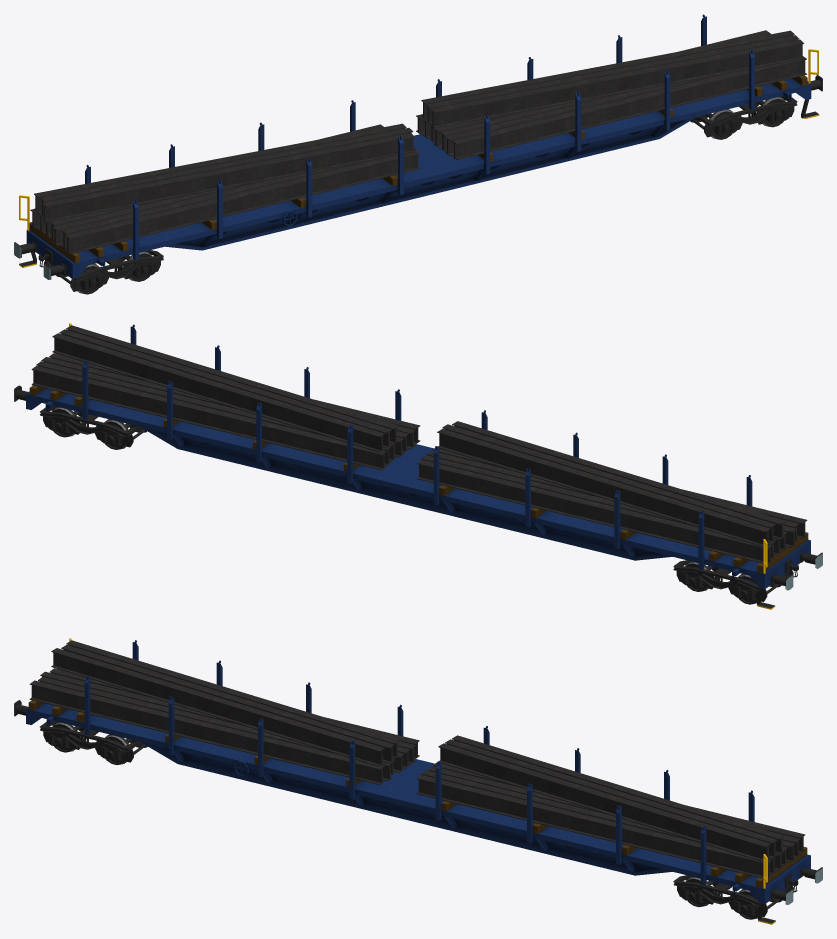
File: rbnpss.obj
The picture shows the model from 3 angles, top to bottom: view 1: azimuth 30°, elevation 25°; view 2: azimuth 150°, elevation 25°; view 3: azimuth 330°, elevation 25°; orthographic projection.
Visible parts, largest first — view 1: FRAME.001_Cube.001, CARGO_FILL_90_Cube.016, CARGO_FILL_40_Cube.026, CARGO_FILL_5_Cube.028, CARGO_FILL_55_Cube.014, CARGO_FILL_100_Cube.021, CARGO_FILL_45_Cube.025, CARGO_FILL_50_Cube.022, CARGO_FILL_95_Cube.017, BOGEY_FRONT_Cube.004, BOGEY_REAR_Cube.005, CARGO_FILL_10_Cube.029 (+5 smaller); view 2: FRAME.001_Cube.001, CARGO_FILL_60_Cube.013, CARGO_FILL_50_Cube.022, CARGO_FILL_100_Cube.021, CARGO_FILL_25_Cube.031, CARGO_FILL_40_Cube.026, CARGO_FILL_95_Cube.017, CARGO_FILL_90_Cube.016, CARGO_FILL_45_Cube.025, BOGEY_REAR_Cube.005, BOGEY_FRONT_Cube.004, CARGO_FILL_80_Cube.010 (+6 smaller); view 3: FRAME.001_Cube.001, CARGO_FILL_5_Cube.028, CARGO_FILL_40_Cube.026, CARGO_FILL_90_Cube.016, CARGO_FILL_55_Cube.014, CARGO_FILL_45_Cube.025, CARGO_FILL_100_Cube.021, CARGO_FILL_95_Cube.017, CARGO_FILL_50_Cube.022, BOGEY_FRONT_Cube.004, BOGEY_REAR_Cube.005, CARGO_FILL_10_Cube.029 (+7 smaller).
Boxes of the visible parts, bbox=[...] form: FRAME.001_Cube.001: bbox=[26, 14, 811, 278]; CARGO_FILL_90_Cube.016: bbox=[431, 39, 804, 128]; CARGO_FILL_40_Cube.026: bbox=[42, 133, 414, 222]; CARGO_FILL_5_Cube.028: bbox=[65, 150, 419, 254]; CARGO_FILL_55_Cube.014: bbox=[452, 56, 806, 159]; CARGO_FILL_100_Cube.021: bbox=[421, 30, 794, 119]; CARGO_FILL_45_Cube.025: bbox=[40, 128, 413, 215]; CARGO_FILL_50_Cube.022: bbox=[34, 123, 406, 212]; CARGO_FILL_95_Cube.017: bbox=[426, 35, 799, 123]; BOGEY_FRONT_Cube.004: bbox=[44, 250, 163, 291]; BOGEY_REAR_Cube.005: bbox=[691, 95, 797, 137]; CARGO_FILL_10_Cube.029: bbox=[61, 146, 416, 249]; FRAME.001_Cube.001: bbox=[26, 324, 810, 588]; CARGO_FILL_60_Cube.013: bbox=[31, 366, 386, 470]; CARGO_FILL_50_Cube.022: bbox=[437, 429, 770, 546]; CARGO_FILL_100_Cube.021: bbox=[52, 333, 384, 452]; CARGO_FILL_25_Cube.031: bbox=[417, 460, 772, 563]; CARGO_FILL_40_Cube.026: bbox=[452, 421, 785, 539]; CARGO_FILL_95_Cube.017: bbox=[59, 329, 391, 448]; CARGO_FILL_90_Cube.016: bbox=[66, 325, 398, 444]; CARGO_FILL_45_Cube.025: bbox=[442, 424, 775, 542]; BOGEY_REAR_Cube.005: bbox=[40, 406, 145, 447]; BOGEY_FRONT_Cube.004: bbox=[673, 560, 793, 601]; CARGO_FILL_80_Cube.010: bbox=[36, 361, 391, 465]; FRAME.001_Cube.001: bbox=[26, 640, 810, 903]; CARGO_FILL_5_Cube.028: bbox=[29, 680, 384, 784]; CARGO_FILL_40_Cube.026: bbox=[51, 648, 384, 766]; CARGO_FILL_90_Cube.016: bbox=[438, 743, 770, 861]; CARGO_FILL_55_Cube.014: bbox=[416, 775, 771, 878]; CARGO_FILL_45_Cube.025: bbox=[61, 645, 394, 763]; CARGO_FILL_100_Cube.021: bbox=[452, 735, 784, 854]; CARGO_FILL_95_Cube.017: bbox=[445, 739, 777, 858]; CARGO_FILL_50_Cube.022: bbox=[66, 640, 399, 758]; BOGEY_FRONT_Cube.004: bbox=[40, 721, 146, 762]; BOGEY_REAR_Cube.005: bbox=[673, 875, 793, 916]; CARGO_FILL_10_Cube.029: bbox=[38, 677, 392, 781].
Size of the model in its own units: 27.03 by 3.13 by 3.41.
8 materials, 8 textured.
